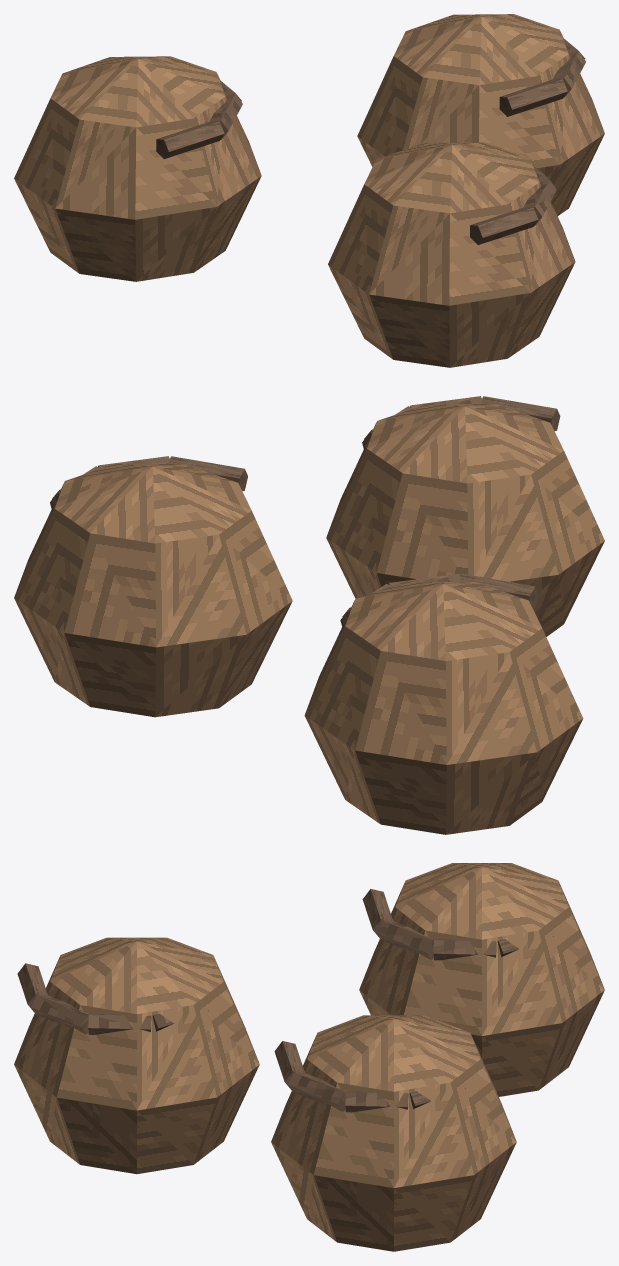
The model's file is gastropod_purged.glb.
3 renders of one model, top to bottom at view 1: azimuth 30°, elevation 25°; view 2: azimuth 150°, elevation 25°; view 3: azimuth 270°, elevation 25°, orthographic. The views are drawn at different scales.
Visible parts, largest first — view 1: block_snail shell (×3), block_shell spiral 11 (×3), block_shell spiral 10 (×3); view 2: block_snail shell (×3), block_shell spiral 11 (×3); view 3: block_snail shell (×3), block_shell spiral 10 (×3), block_shell spiral 9 (×3), block_shell spiral 11 (×3).
Part boxes in pixels (box(x1,y1,x2,y2)): block_snail shell (×3): box(14, 14, 604, 367); block_shell spiral 11 (×3): box(156, 79, 567, 244); block_shell spiral 10 (×3): box(209, 51, 585, 225); block_snail shell (×3): box(14, 403, 604, 834); block_shell spiral 11 (×3): box(169, 396, 560, 608); block_snail shell (×3): box(14, 863, 604, 1251); block_shell spiral 10 (×3): box(31, 920, 435, 1111); block_shell spiral 9 (×3): box(88, 939, 496, 1112); block_shell spiral 11 (×3): box(17, 889, 392, 1091).
Size of the model in its own units: 0.0464 by 0.0188 by 0.0445.
Materials: 1 (1 with a texture image).
